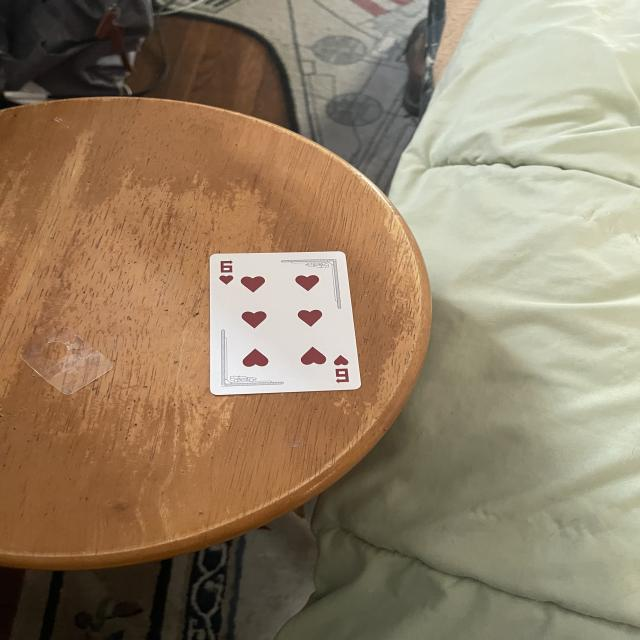6 of hearts: (212, 250, 366, 396)
